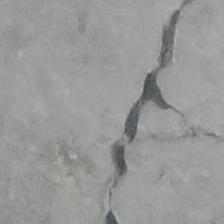Crack: (3, 0, 224, 224)
